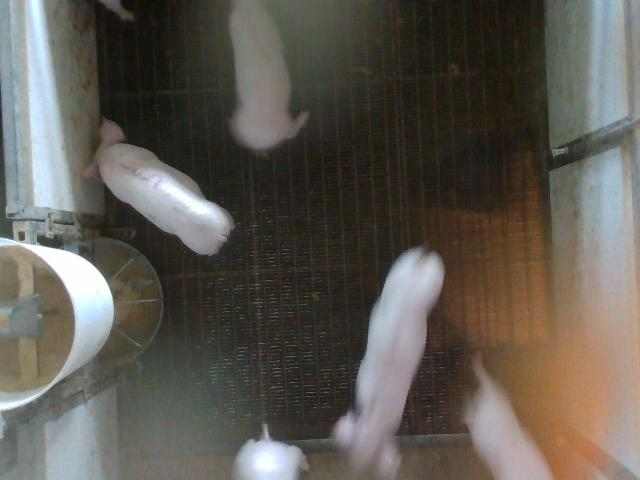pig-3: (84, 118, 234, 254)
